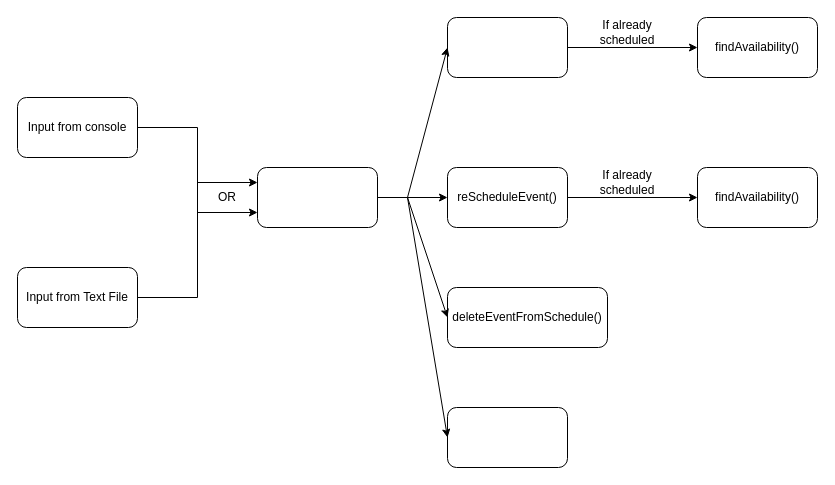
The diagram is 835 pixels wide and 485 high, and some of its shapes have lost their labels. The box of each missing label's shape, as (x1, y1, x2, y2) in pixels:
getEvent(): (446, 406, 568, 468)
Input: (256, 166, 378, 228)
scheduleEvent(): (446, 16, 568, 78)
